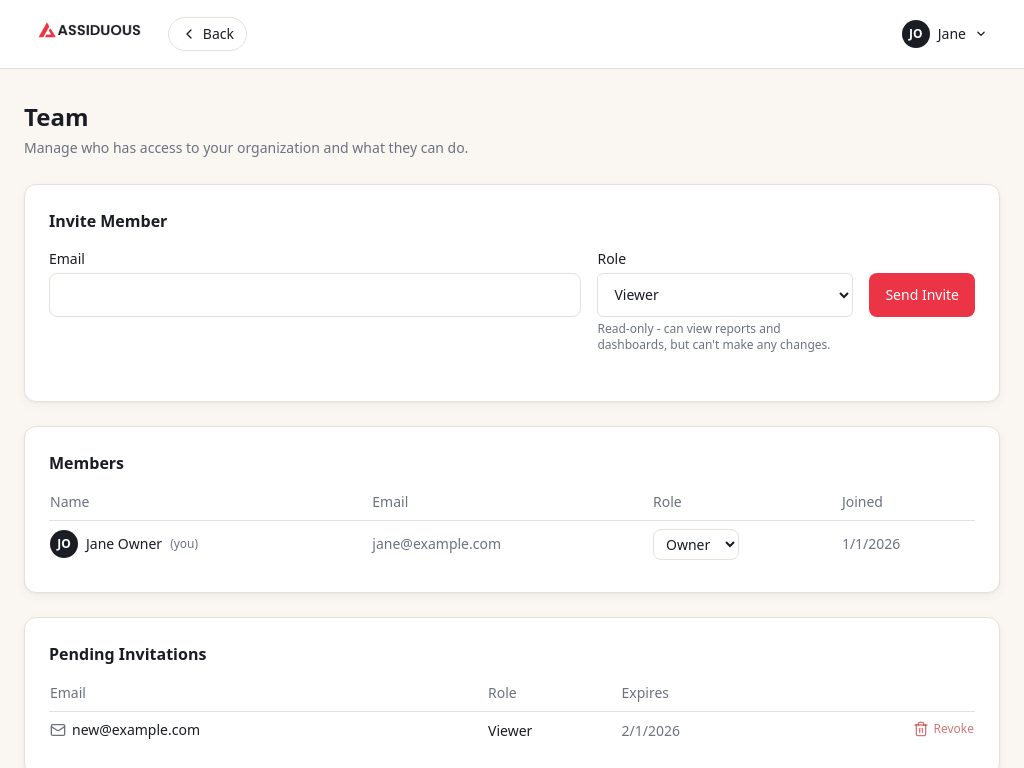
Test case: TeamSettingsView › revokes a pending invitation after confirming in the modal
What coordinates should you click on to do the following:
click the button "Revoke"
I would click on:
 (944, 729)
Its box is [914,721,974,737].
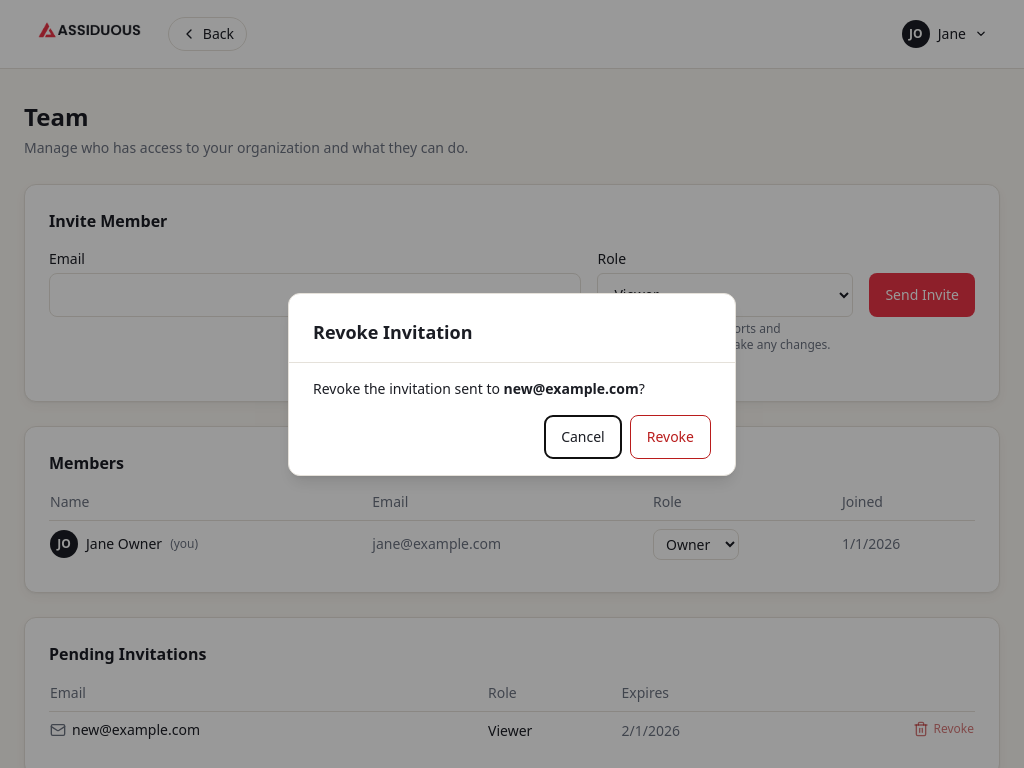
What coordinates should you click on to do the following:
click the button "Revoke"
I would click on:
 (670, 436)
Its box is [630,414,711,458].
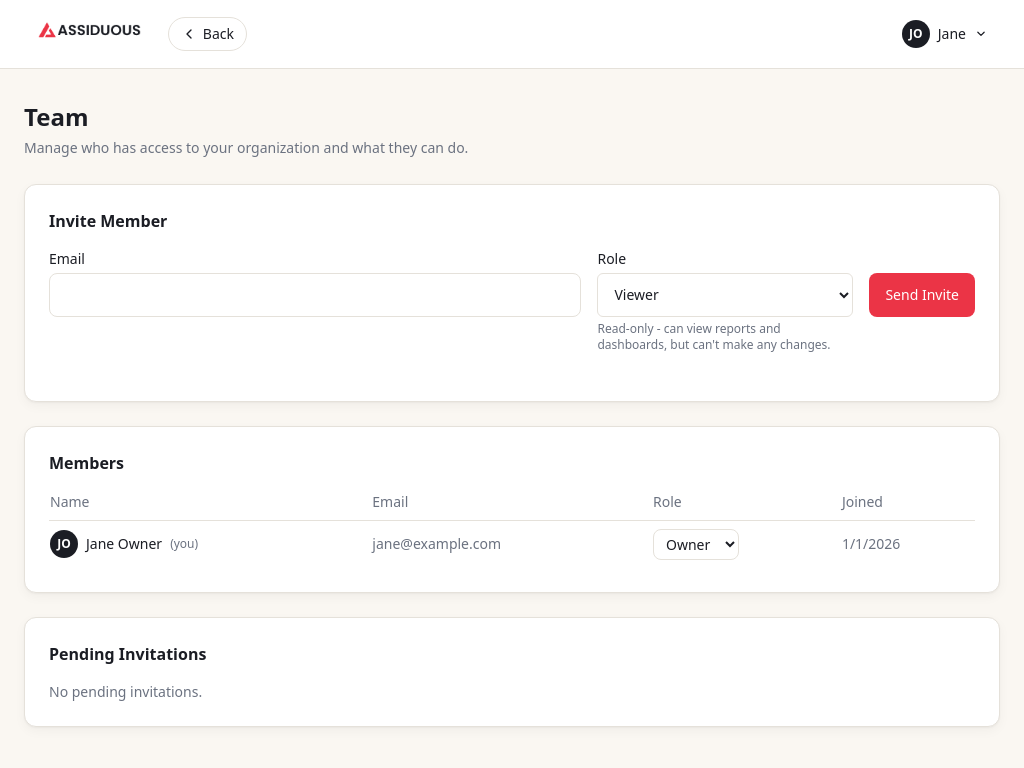
expect the text "No pending invitations." is shown: met, box [49,682,202,701]
